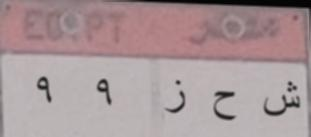7aa: (206, 84, 240, 125)
9: (88, 75, 124, 112), (29, 72, 60, 107)
sheen: (261, 76, 303, 124)
zay: (160, 78, 195, 116)
